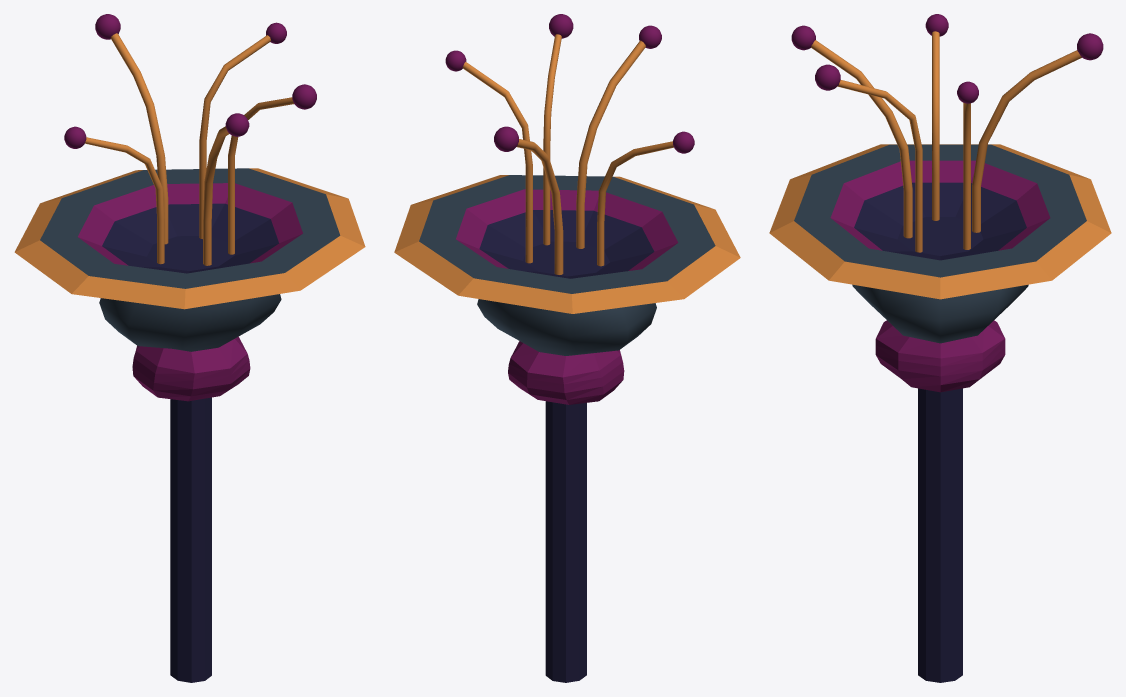
Rendered from palmite gemmae.FBX.
3 renders of one model, left to right at view 1: azimuth 30°, elevation 25°; view 2: azimuth 150°, elevation 25°; view 3: azimuth 270°, elevation 25°, orthographic. The views are drawn at different scales.
Visible parts, largest first — view 1: Sphere005; view 2: Sphere005; view 3: Sphere005.
Boxes of the visible parts, x1,y1,x2,y2 form: Sphere005: (14,14,365,682); Sphere005: (394,14,740,682); Sphere005: (769,14,1111,682).
Bounding box in the file's own units: 78.57 × 151 × 73.24.
